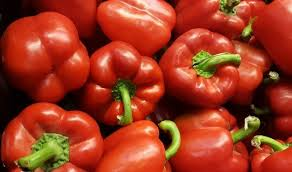bell pepper: (1, 13, 90, 104), (75, 95, 180, 172), (78, 38, 166, 125), (164, 90, 254, 172), (5, 94, 96, 172), (164, 26, 237, 114), (93, 2, 173, 47), (175, 1, 246, 38), (243, 117, 289, 172), (254, 7, 292, 67), (258, 76, 292, 114)
